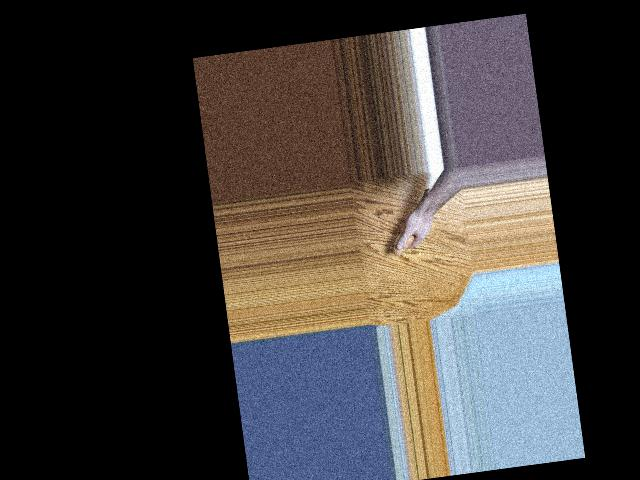sweet_potato: (385, 184, 443, 257)
